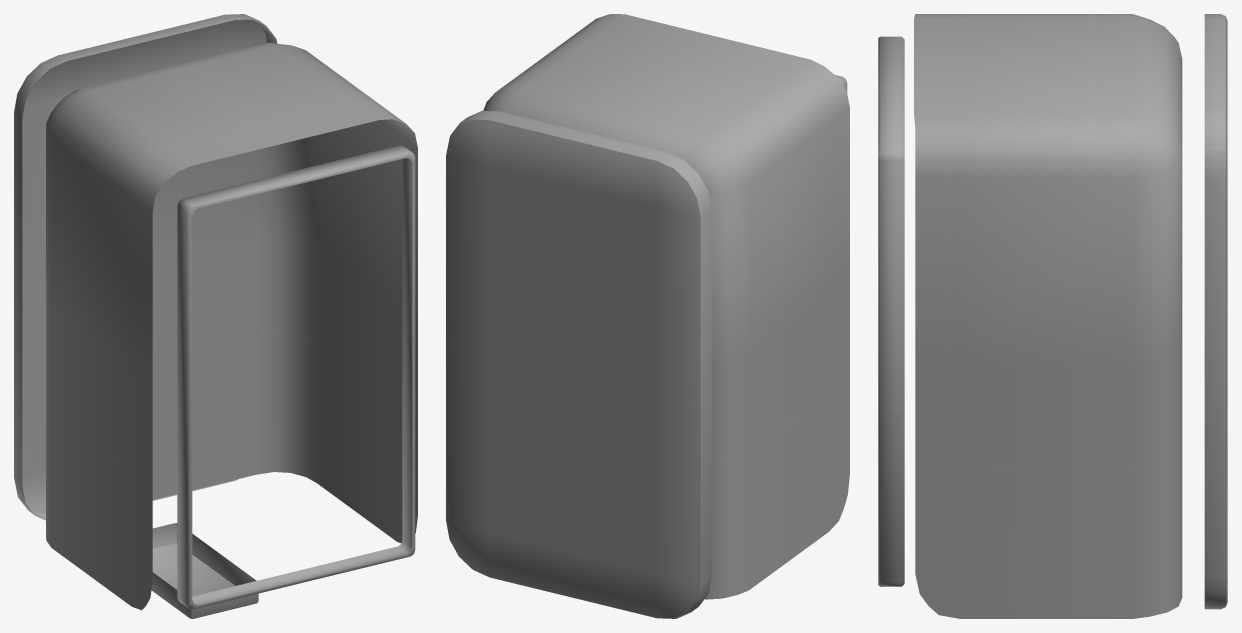
The model's file is MeshToaster_5_0_GeomSubset_0.obj.
The picture shows the model from 3 angles, left to right: view 1: azimuth 30°, elevation 25°; view 2: azimuth 150°, elevation 25°; view 3: azimuth 270°, elevation 25°; orthographic projection. The views are drawn at different scales.
Parts seen in each view (by area): view 1: MeshToaster_5_0_GeomSubset_0; view 2: MeshToaster_5_0_GeomSubset_0; view 3: MeshToaster_5_0_GeomSubset_0.
Part boxes in pixels (x1=…): MeshToaster_5_0_GeomSubset_0: x1=14, y1=14, x2=417, y2=618; MeshToaster_5_0_GeomSubset_0: x1=446, y1=14, x2=849, y2=618; MeshToaster_5_0_GeomSubset_0: x1=878, y1=14, x2=1227, y2=618.
Size of the model in its own units: 0.1929 by 0.3243 by 0.2041.
